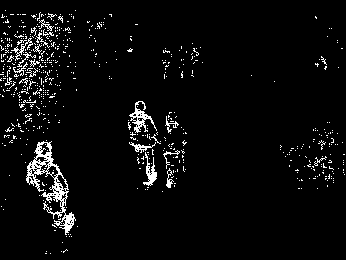person: (23, 138, 76, 236), (127, 101, 159, 191), (160, 110, 188, 189)
